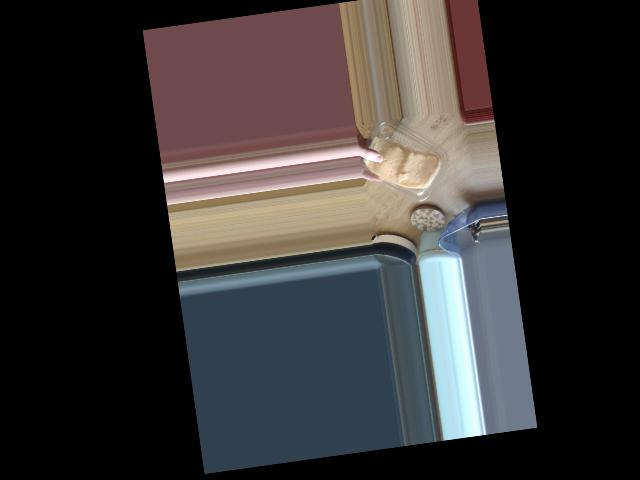cheese: (362, 113, 463, 215)
